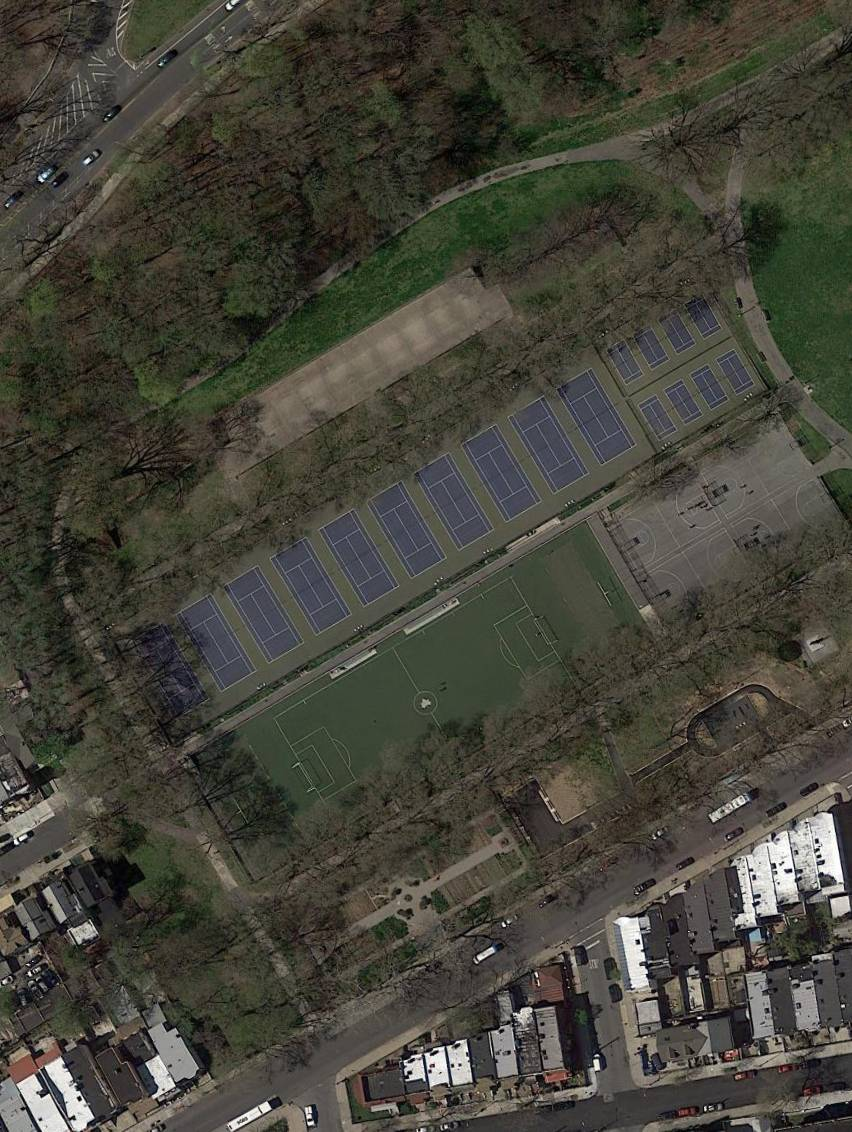basketball court: (641, 527, 760, 632), (731, 477, 847, 578), (610, 473, 724, 575), (699, 422, 811, 521)
large vehicle: (709, 791, 752, 824)
soccer ball field: (267, 571, 584, 834)
tennis court: (268, 536, 355, 639), (410, 451, 497, 554), (221, 562, 307, 666), (506, 393, 592, 497), (316, 506, 401, 611), (126, 620, 212, 723), (174, 591, 259, 695), (365, 478, 450, 582), (460, 422, 545, 525), (554, 365, 638, 468), (662, 376, 706, 428), (687, 363, 732, 413), (636, 392, 680, 443), (716, 347, 758, 398), (656, 308, 698, 358), (682, 293, 724, 342), (606, 337, 646, 387), (632, 323, 672, 372)
